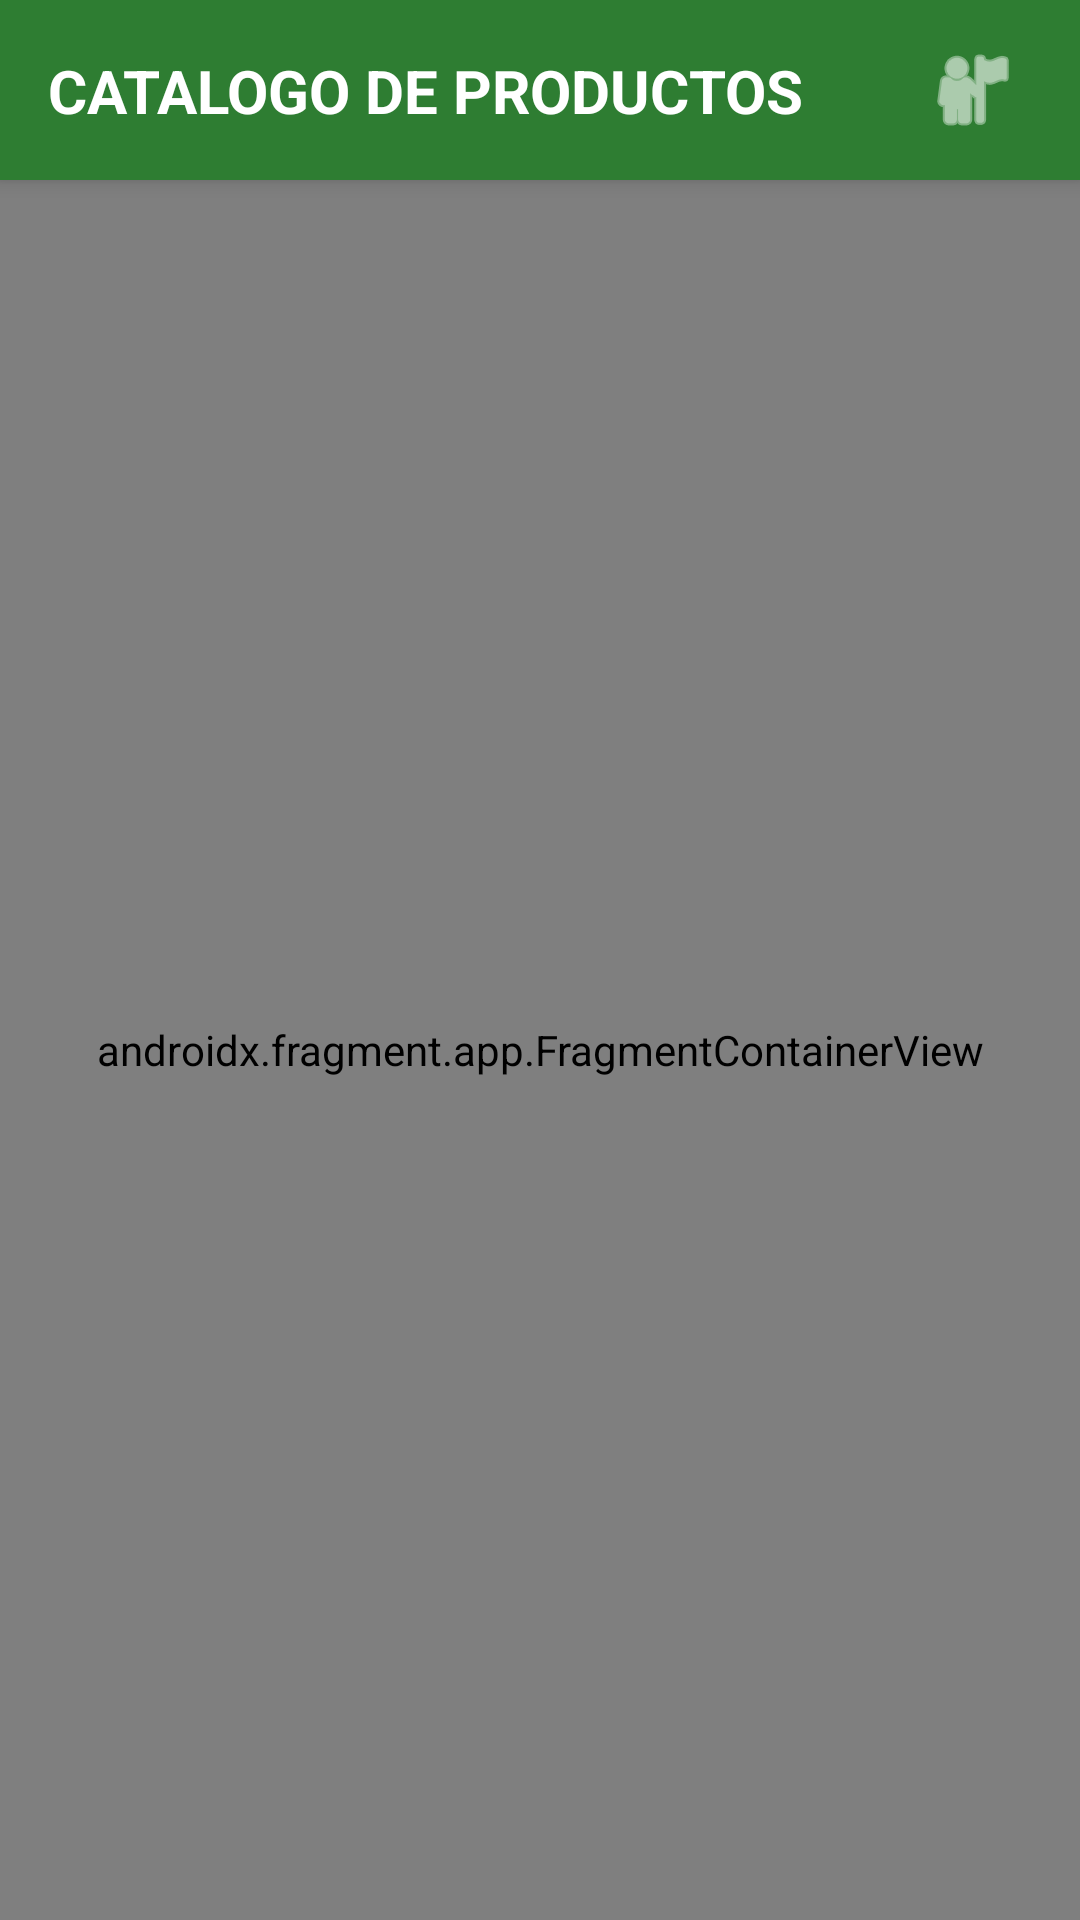

Icon bounding boxes for this 1080px x 1920px phone screenshot, format {"left": x1, "top": y1, "right": x2, "bottom": y2}:
Perfil de usuario: {"left": 937, "top": 54, "right": 1009, "bottom": 126}
